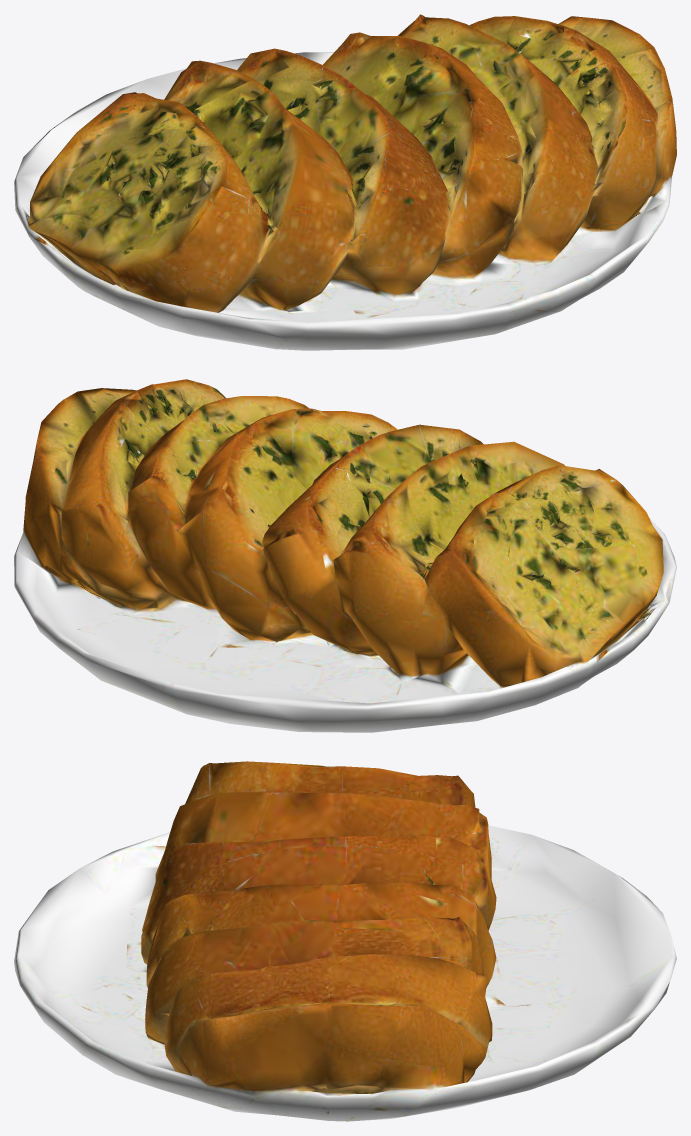
The model's file is garlic-bread-ar.glb.
3 renders of one model, top to bottom at view 1: azimuth 30°, elevation 25°; view 2: azimuth 150°, elevation 25°; view 3: azimuth 270°, elevation 25°, orthographic.
Visible parts, largest first — view 1: mesh_node; view 2: mesh_node; view 3: mesh_node.
Boxes of the visible parts, bbox=[...] form: mesh_node: bbox=[14, 14, 676, 350]; mesh_node: bbox=[14, 379, 676, 732]; mesh_node: bbox=[14, 761, 676, 1121].
Bounding box in the file's own units: 0.2594 × 0.0703 × 0.2514.
Materials: 1 (1 with a texture image).
